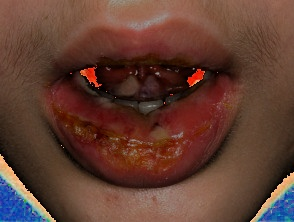SJS-TEN: (48, 97, 228, 189)
